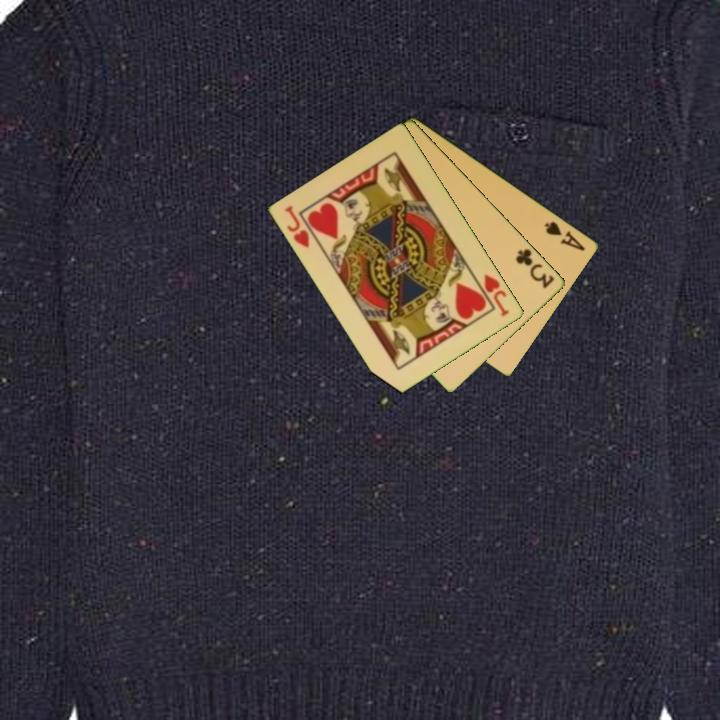3c: (513, 245, 558, 292)
As: (541, 218, 589, 254)
Jh: (471, 270, 512, 319), (281, 202, 313, 251)
